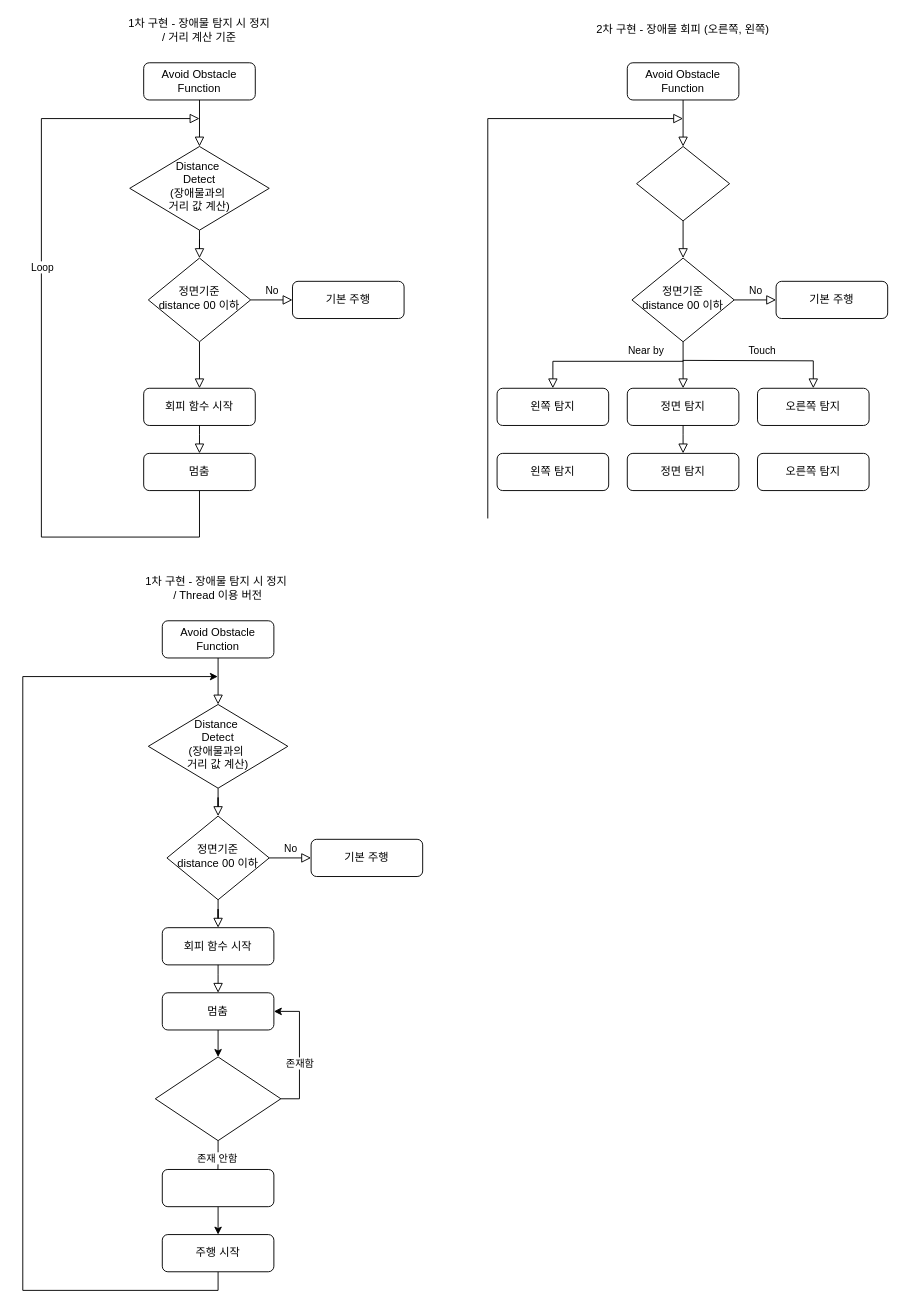
Image size: 904x1314. Some labels were removed from this diagram. The box of each missing label's shape, as (x1, y1, x2, y2) in pixels:
Distance Detect: (636, 146, 730, 221)
Thread에서 대기: (161, 1169, 274, 1207)
장애물 존재 여부: (154, 1056, 281, 1141)
